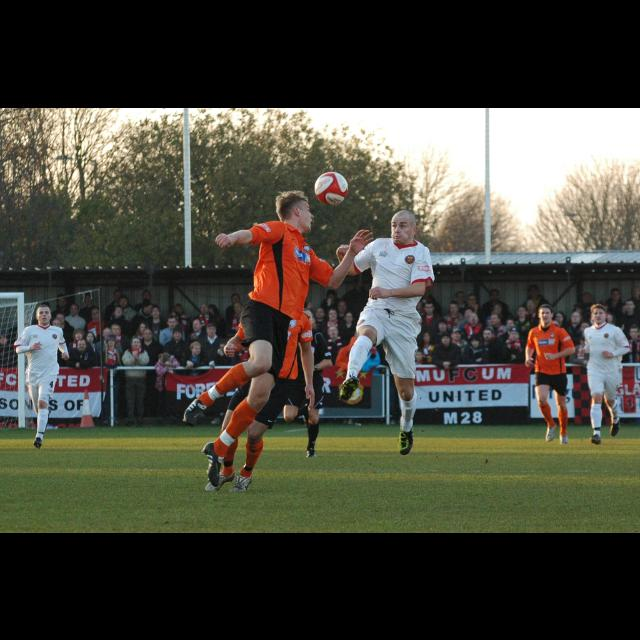Football: (314, 168, 348, 206)
